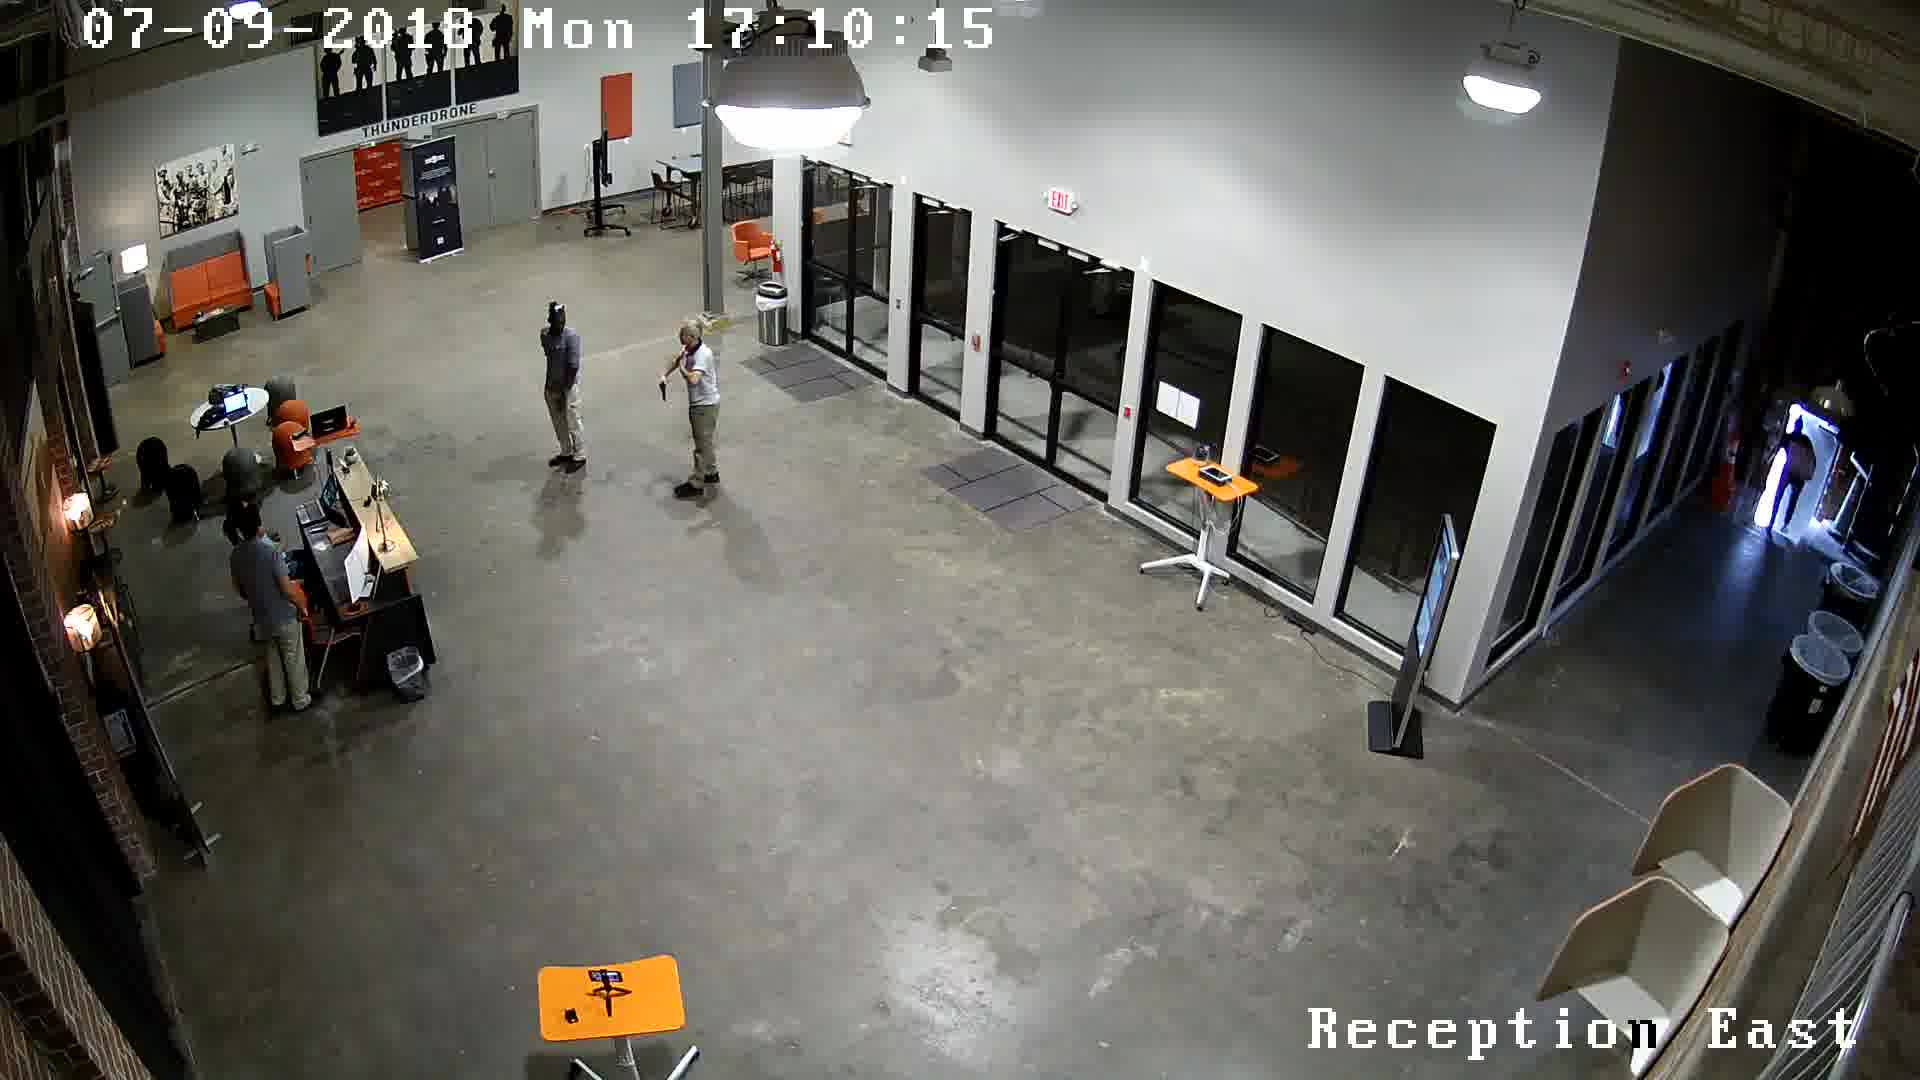pistol: (640, 369, 676, 414)
